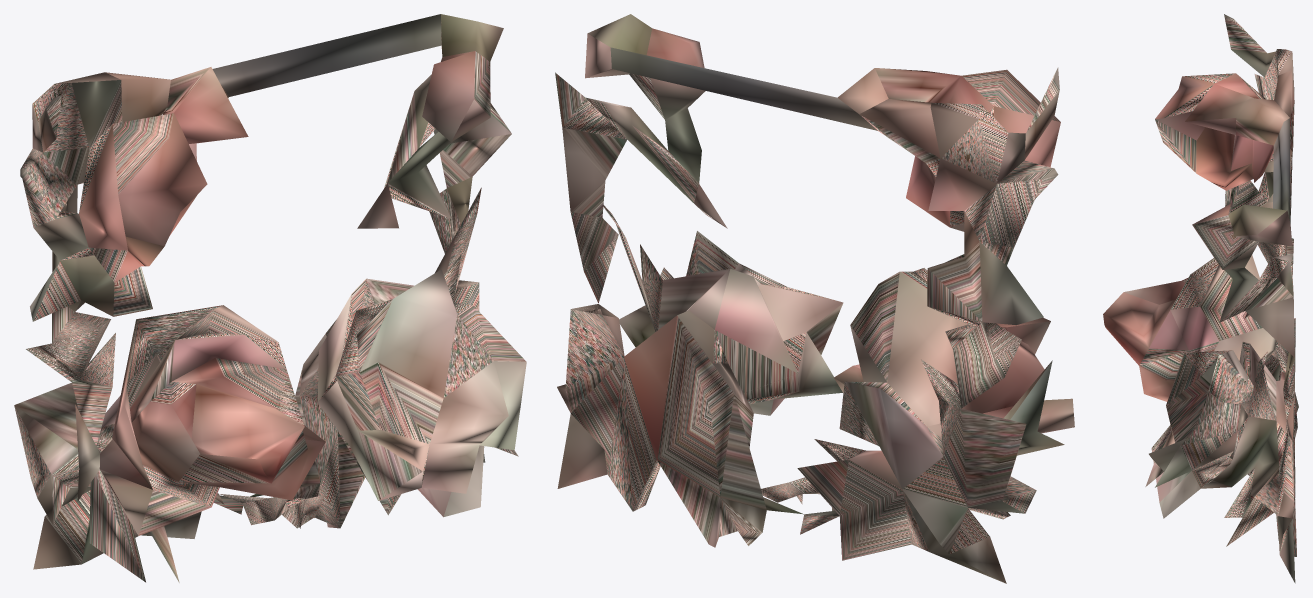
3 views of the same model, side by side, from view 1: azimuth 30°, elevation 25°; view 2: azimuth 150°, elevation 25°; view 3: azimuth 270°, elevation 25° (orthographic). The views are drawn at different scales.
Visible parts, largest first — view 1: Rose-Frame-9-02; view 2: Rose-Frame-9-02; view 3: Rose-Frame-9-02.
Part boxes in pixels (x1,y1,x2,y2): Rose-Frame-9-02: (14,14,526,582); Rose-Frame-9-02: (555,14,1074,583); Rose-Frame-9-02: (1103,14,1298,583).
Size of the model in its own units: 0.235 by 0.2411 by 0.1037.
1 material, 1 textured.
